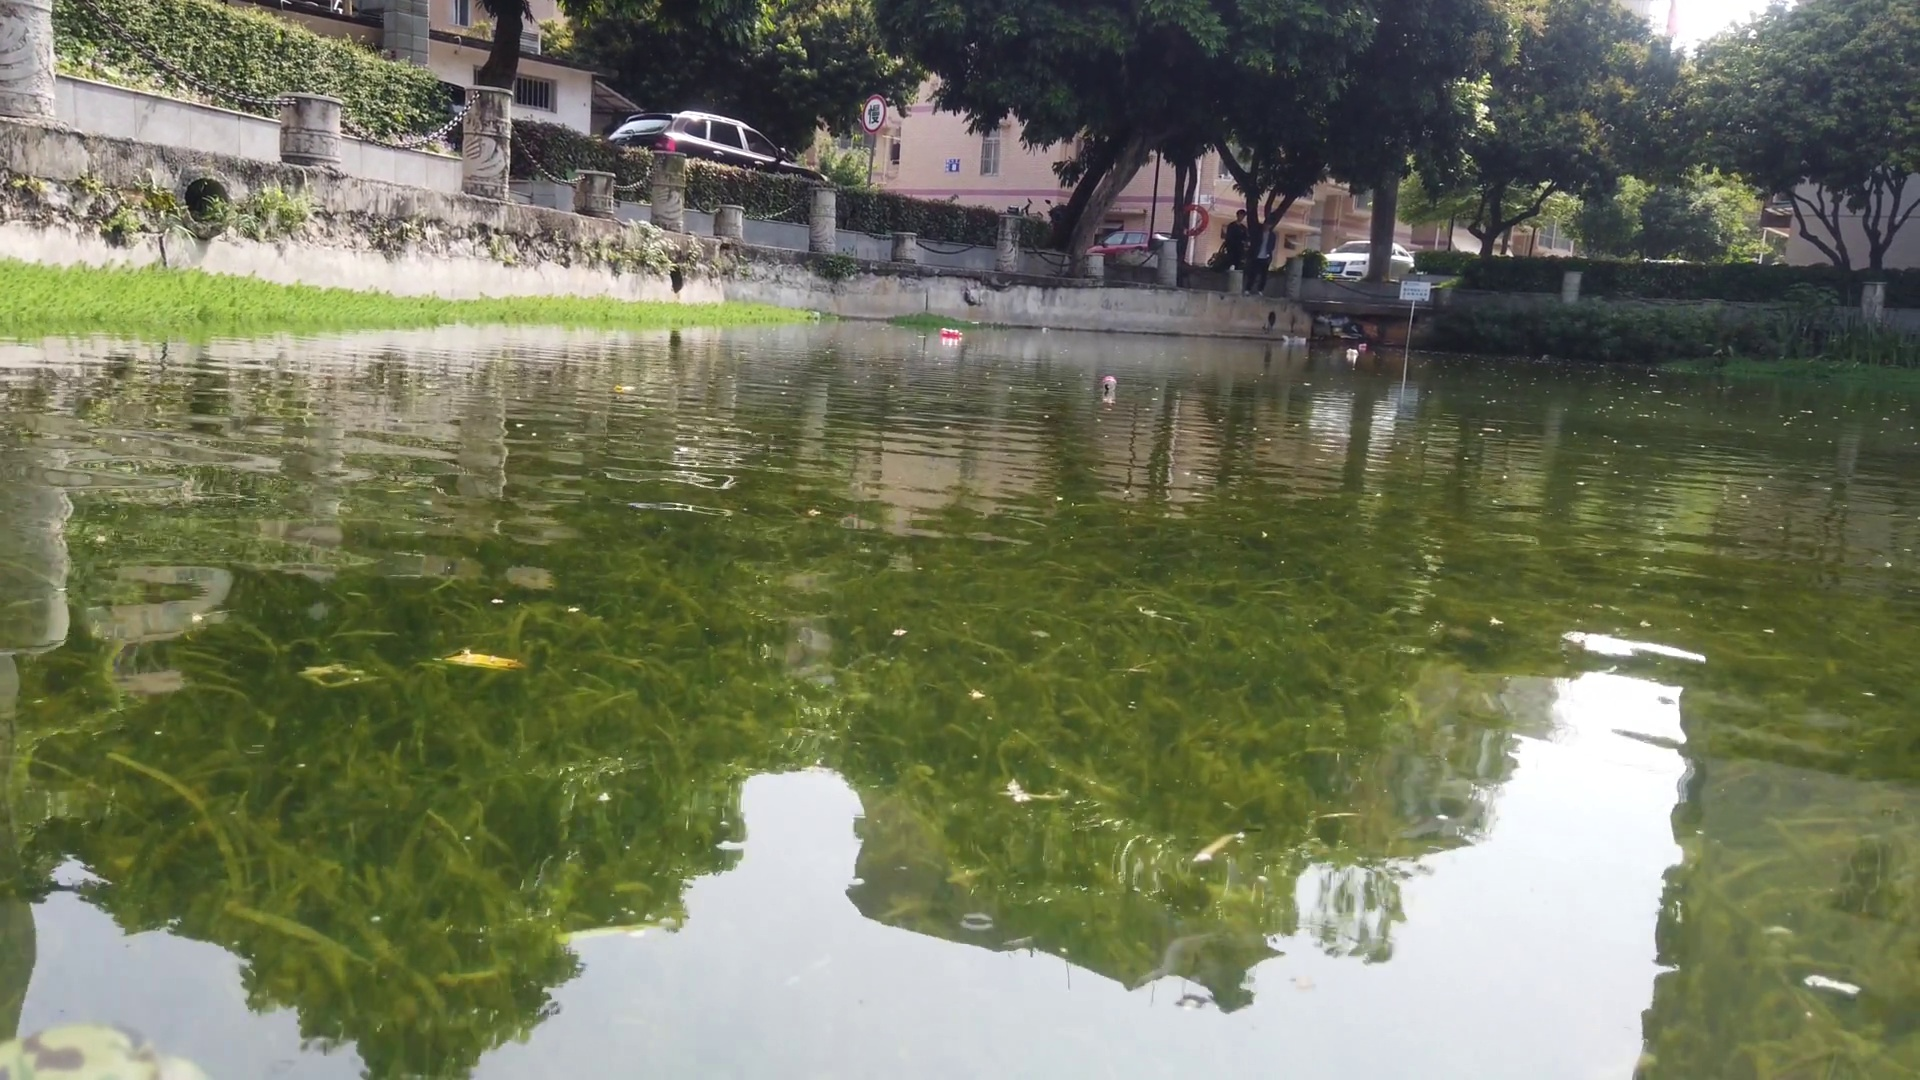bottle: (1098, 369, 1124, 398), (938, 324, 964, 342), (1344, 345, 1358, 356), (1358, 340, 1369, 351)
carton: (1292, 335, 1305, 347)
plastic: (1280, 334, 1296, 345)
